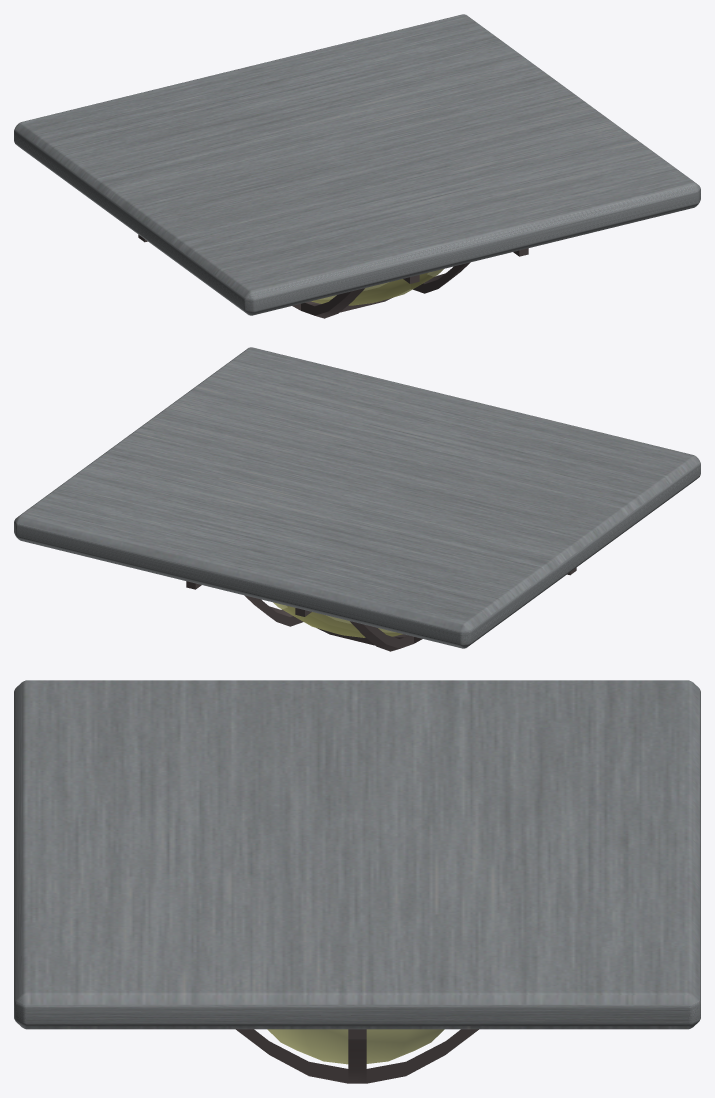
The model's file is lamp01.fbx.
3 renders of one model, top to bottom at view 1: azimuth 30°, elevation 25°; view 2: azimuth 150°, elevation 25°; view 3: azimuth 270°, elevation 25°, orthographic. The views are drawn at different scales.
Parts seen in each view (by area): view 1: pCube2, pCube1, pSphere1; view 2: pCube2, pCube1, pSphere1; view 3: pCube2, pCube1, pSphere1.
Boxes of the visible parts, x1,y1,x2,y2 form: pCube2: [14, 14, 700, 315]; pCube1: [138, 234, 528, 318]; pSphere1: [311, 268, 444, 305]; pCube2: [14, 347, 700, 648]; pCube1: [186, 567, 576, 651]; pSphere1: [273, 602, 402, 637]; pCube2: [14, 680, 700, 1029]; pCube1: [236, 1029, 478, 1083]; pSphere1: [267, 1029, 444, 1064].
Size of the model in its own units: 47.84 by 15.31 by 43.1.
Materials: 3 (1 with a texture image).
